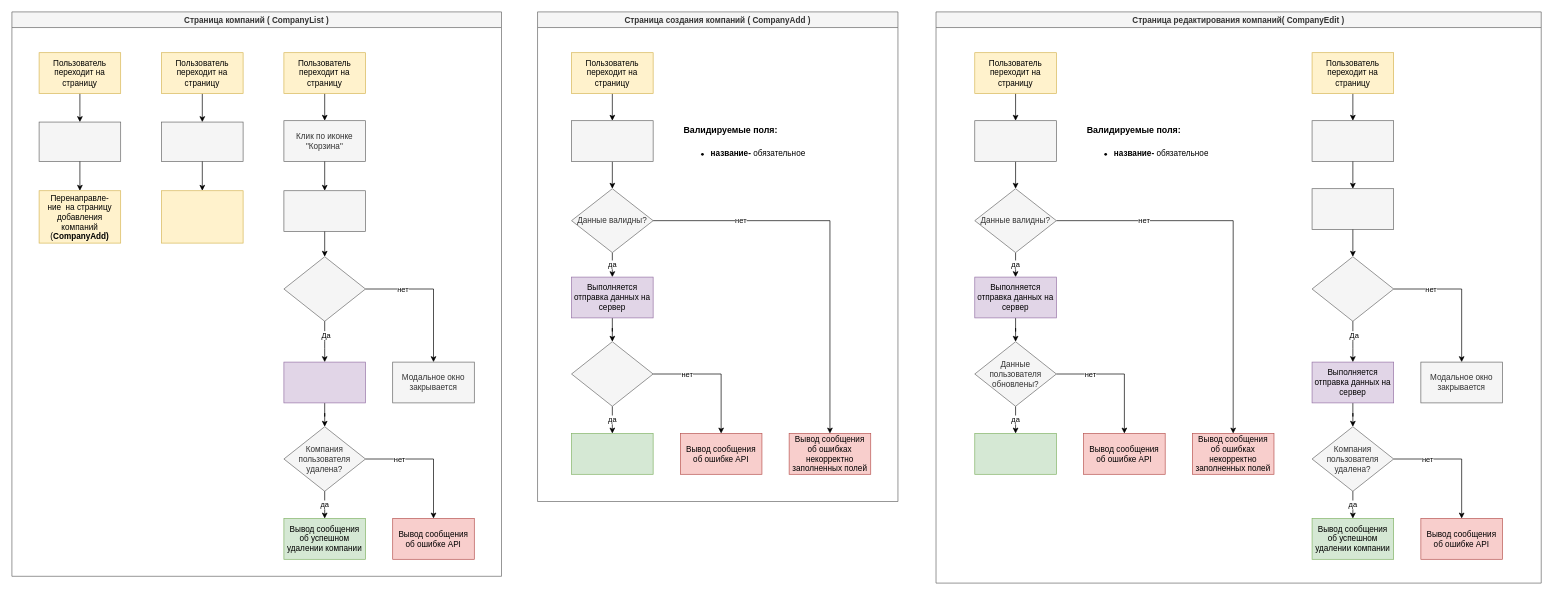
The diagram is 1553 pixels wide and 595 high, and some of its shapes have lost their labels. The shapes that lost their labels are listed below. From the top down, each one's centre as x and y in pixels, then its label:
point (79, 141): Клик по кнопке "Добавить"
point (202, 141): Клик по иконке "Карандаш" определённой компании
point (612, 141): Заполнение данных и отправка формы
point (1015, 141): Изменение данных и отправка формы
point (1352, 141): Пользователь нажимает на кнопку "Ещё" и выбирает удаление
point (202, 216): Перенаправле-ние на страницу редактирования комппаний ( CompanyEdit)
point (324, 211): Всплывает модальное окно
point (1352, 209): Всплывает модальное окно с подтверждением
point (324, 288): Пользователь подтверждает удаление?
point (1352, 288): Пользователь подтвердил удаление?
point (324, 382): Выполняется отправка данных на сервере
point (612, 373): Компания создана?
point (612, 453): Вывод сообщения об успешном создании компании
point (1015, 453): Вывод сообщения об успешном обновлении компании
